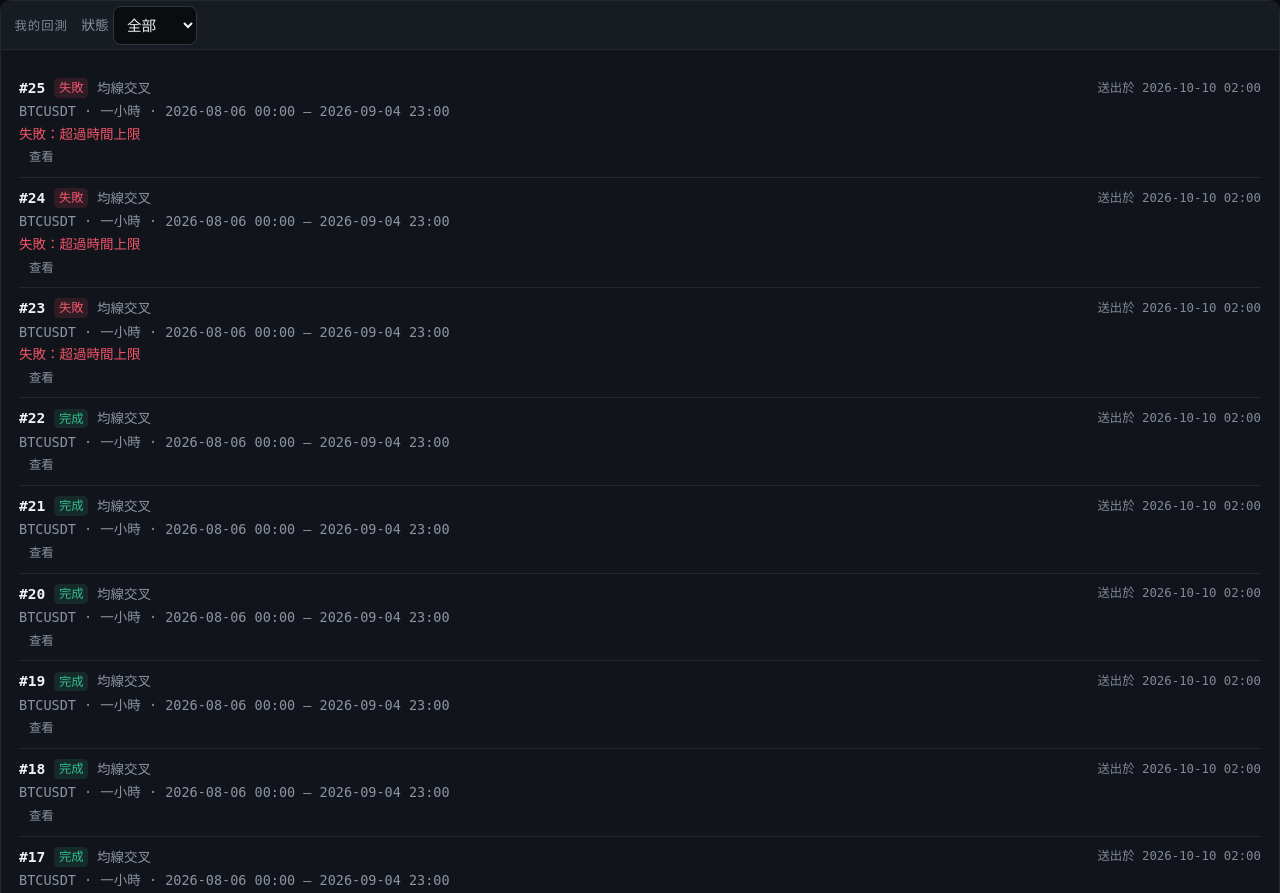
Test: BacktestRunsPage › 點一筆完成的就用成績單畫面呈現
The image size is (1280, 893).
Click the button with test id "backtest-run-view" below "#25" at (41,157), box [19, 146, 64, 168]
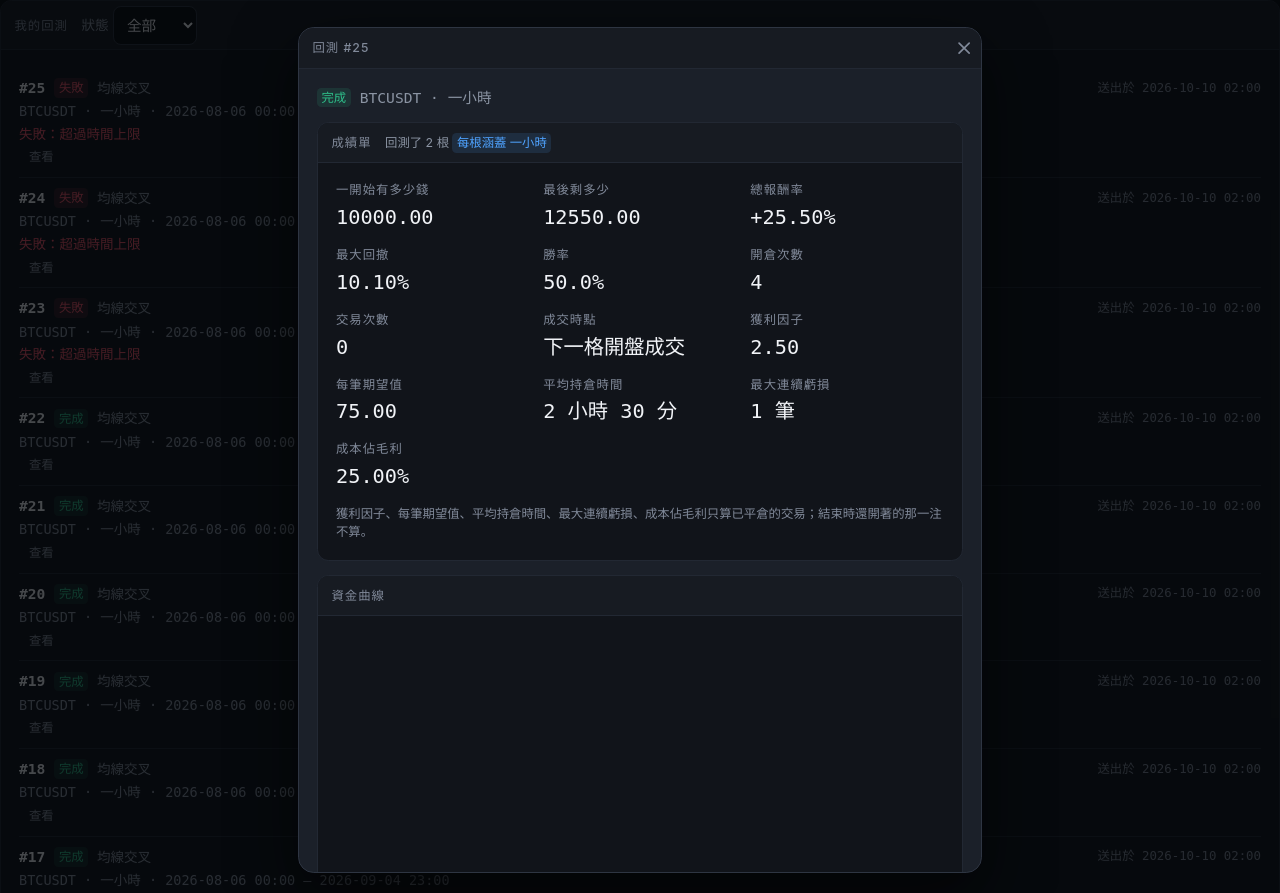
Check: the element with test id "backtest-result-section-whole" is shown, box [317, 122, 963, 872]
Check: the text "2.50" is shown, box [750, 335, 799, 359]
